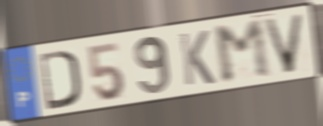5: (84, 40, 127, 103)
9: (133, 34, 172, 96)
D: (37, 47, 82, 112)
K: (177, 28, 217, 89)
M: (211, 17, 275, 87)
V: (261, 12, 307, 76)
